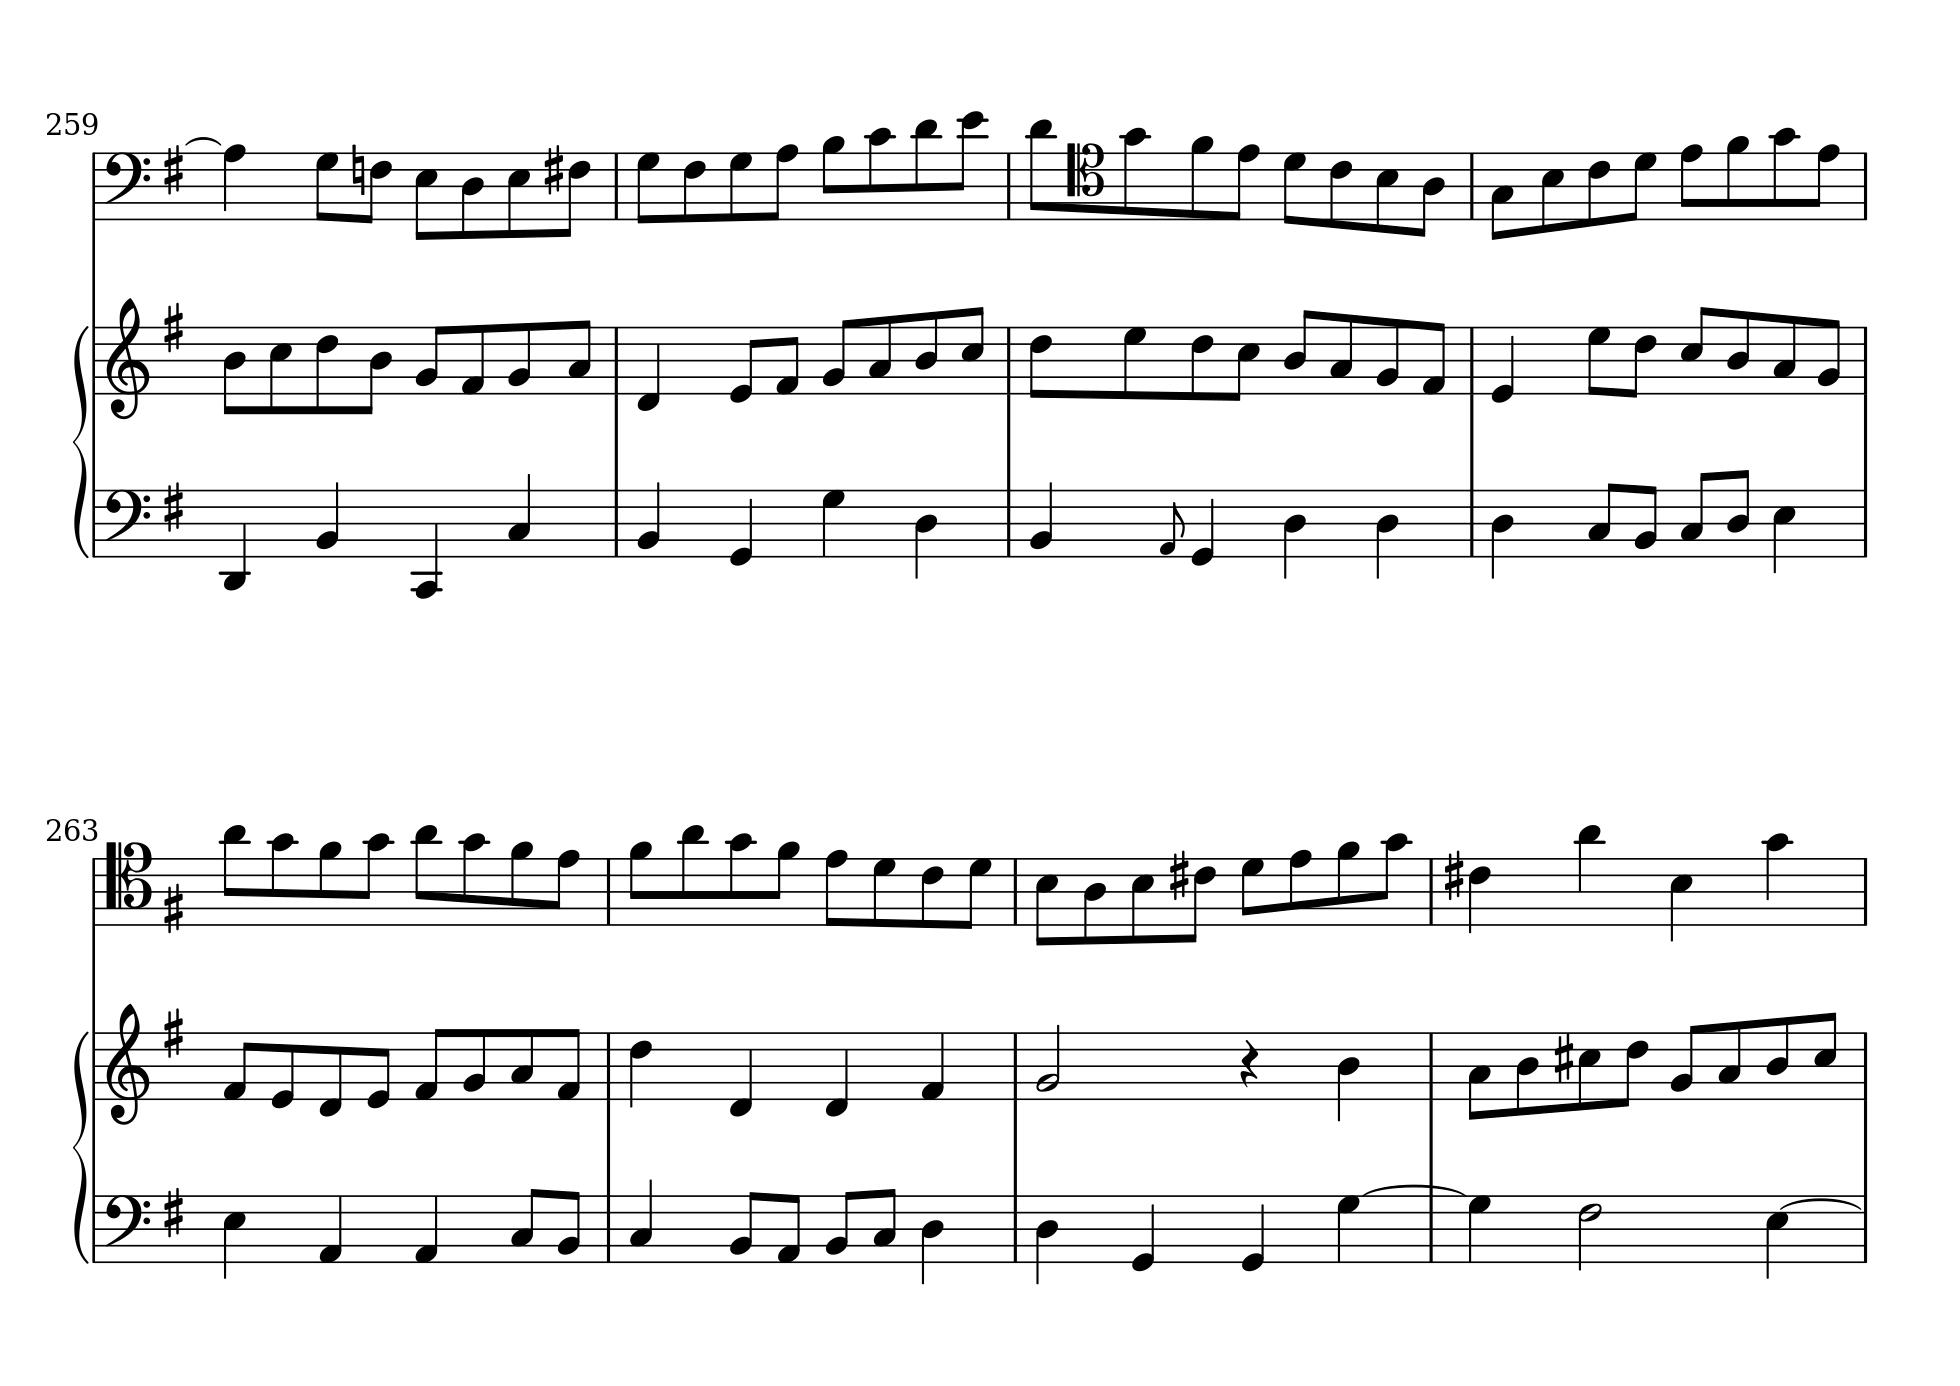2: (45, 111, 63, 135), (45, 817, 63, 841)
2_2: (1035, 1023, 1062, 1099)
2_6: (1576, 1192, 1600, 1270)
3: (81, 817, 99, 841)
4_-1: (726, 1029, 754, 1117), (822, 1029, 849, 1117), (634, 324, 661, 411)
4_-3: (220, 484, 249, 591)
4_-4: (411, 486, 441, 598)
4_0: (1489, 324, 1516, 403), (727, 487, 754, 565), (1131, 1192, 1156, 1272), (1240, 1192, 1266, 1272), (1191, 487, 1215, 567)
4_1: (316, 1192, 343, 1264), (412, 1192, 439, 1264), (919, 1030, 946, 1101)
4_10: (1764, 831, 1789, 927)
4_11: (1575, 820, 1602, 927)
4_2: (1027, 480, 1056, 558), (313, 480, 340, 559), (634, 480, 661, 558)
4_3: (505, 471, 532, 558), (627, 1177, 652, 1263)
4_4: (912, 487, 939, 579), (1281, 487, 1308, 579), (1374, 487, 1401, 579), (1033, 1192, 1060, 1284), (1489, 487, 1515, 579), (1335, 1030, 1360, 1122), (919, 1192, 943, 1285)
4_5: (1770, 484, 1797, 573), (1668, 855, 1693, 943), (220, 1192, 246, 1279), (1764, 1192, 1789, 1279)
4_6: (625, 1030, 652, 1108), (1467, 855, 1491, 933)
4_7: (1335, 1192, 1362, 1263), (820, 487, 846, 558), (1465, 1192, 1491, 1261)
4_8: (220, 142, 246, 222)
5: (63, 109, 79, 136)
6: (63, 816, 82, 841)
8_-1: (316, 1029, 343, 1117)
8_0: (727, 324, 760, 405), (268, 1029, 295, 1110), (364, 1029, 391, 1110)
8_1: (412, 1024, 445, 1101), (220, 1030, 255, 1101), (1419, 319, 1446, 394), (553, 1026, 580, 1101), (459, 322, 486, 396), (775, 1191, 801, 1264), (774, 325, 799, 396)
8_10: (357, 832, 391, 927), (1377, 832, 1408, 927), (1120, 126, 1149, 222), (459, 831, 487, 927), (1770, 124, 1797, 222), (865, 126, 892, 222), (268, 831, 295, 927), (726, 831, 753, 927)
8_11: (910, 117, 940, 222), (1026, 117, 1056, 222), (676, 822, 706, 927), (220, 820, 249, 925), (411, 822, 439, 927)
8_12: (952, 108, 988, 222)
8_2: (822, 1188, 856, 1263), (1668, 1021, 1701, 1099), (820, 316, 852, 394), (727, 1188, 759, 1263), (414, 322, 445, 394), (1374, 316, 1401, 394), (1632, 483, 1659, 559), (505, 319, 532, 394), (1816, 316, 1842, 394), (460, 1026, 487, 1099), (556, 1188, 580, 1264)
8_3: (1680, 469, 1713, 558), (1587, 480, 1620, 558), (1488, 150, 1515, 241), (1465, 1029, 1492, 1120), (508, 1186, 540, 1264), (865, 313, 892, 396), (1771, 313, 1798, 396), (1716, 1018, 1743, 1101), (1329, 310, 1354, 396), (565, 316, 591, 394), (508, 1027, 535, 1099), (871, 1186, 895, 1263)
8_4: (358, 324, 393, 415), (1413, 150, 1446, 238), (1282, 307, 1315, 394), (1725, 466, 1752, 558), (1725, 307, 1752, 394), (220, 324, 246, 415), (913, 309, 940, 394), (1764, 1014, 1791, 1099), (459, 150, 484, 240), (1081, 855, 1107, 945), (1513, 1029, 1539, 1116)
8_5: (1678, 304, 1711, 394), (958, 304, 987, 396), (1228, 324, 1260, 403), (265, 324, 292, 415), (1128, 853, 1155, 943), (1812, 1009, 1839, 1099), (412, 148, 438, 241), (1033, 855, 1059, 946), (1374, 148, 1399, 234), (1539, 148, 1564, 234), (505, 148, 529, 238), (1575, 1029, 1600, 1110)
8_6: (1182, 855, 1218, 943), (558, 150, 592, 238), (1615, 1029, 1650, 1108), (1626, 324, 1657, 400), (361, 150, 393, 225), (313, 324, 339, 415), (1026, 324, 1053, 400), (1327, 150, 1353, 229), (1585, 150, 1611, 228), (1188, 324, 1213, 402), (681, 150, 706, 223), (918, 855, 943, 928)
8_7: (958, 855, 991, 930), (1623, 150, 1656, 222), (1281, 150, 1308, 226), (870, 855, 897, 928), (634, 150, 660, 226), (1122, 324, 1147, 400), (313, 150, 339, 222), (1585, 324, 1611, 396), (1239, 855, 1264, 925), (727, 150, 751, 222)
8_8: (547, 847, 580, 928), (763, 142, 796, 222), (1227, 142, 1260, 222), (1809, 142, 1840, 222), (1678, 142, 1704, 222), (823, 847, 847, 928), (1287, 847, 1311, 927)
8_9: (768, 840, 799, 927), (1725, 133, 1750, 222), (1189, 135, 1215, 222), (627, 840, 652, 927), (820, 133, 844, 222), (316, 840, 340, 927), (508, 840, 532, 927), (1335, 840, 1359, 925)
9: (81, 109, 97, 136)
Brace: (70, 321, 88, 559), (70, 1030, 88, 1260)
Fclef: (100, 486, 151, 559), (100, 148, 151, 220), (100, 1192, 151, 1263)
Gclef: (103, 295, 150, 421), (103, 1000, 150, 1126)
Natural: (349, 142, 364, 195)
Rests4: (1239, 1036, 1260, 1090)
Sharp: (160, 478, 186, 535), (160, 142, 184, 196), (1551, 1030, 1575, 1084), (160, 300, 184, 352), (160, 1005, 184, 1057), (160, 1185, 184, 1237), (1167, 847, 1189, 901), (541, 142, 564, 193), (162, 882, 184, 933), (1443, 847, 1464, 901)
Single_barline: (598, 856, 616, 924), (1423, 1195, 1441, 1261), (1857, 151, 1873, 220), (1464, 151, 1480, 219), (1464, 327, 1480, 394), (1858, 1195, 1875, 1263), (609, 327, 625, 393), (1002, 327, 1018, 393), (1857, 858, 1873, 924), (600, 1033, 616, 1099), (1464, 490, 1480, 555), (1423, 1033, 1440, 1098), (85, 858, 102, 919), (601, 1194, 616, 1261), (609, 490, 624, 556), (1858, 490, 1873, 556), (1858, 1032, 1873, 1098), (1008, 1033, 1023, 1099), (609, 153, 624, 217), (1002, 153, 1017, 217), (1002, 490, 1017, 555), (1008, 858, 1023, 922), (1423, 858, 1438, 922), (1008, 1195, 1023, 1260), (1858, 325, 1872, 394), (87, 153, 100, 219), (88, 325, 100, 394), (88, 1032, 100, 1099), (88, 1194, 100, 1261), (88, 490, 100, 556)
Slur: (1359, 1183, 1467, 1195), (1779, 1197, 1863, 1210), (184, 135, 222, 147)
Tensor_Cclef: (103, 838, 151, 925), (1065, 141, 1105, 220)
